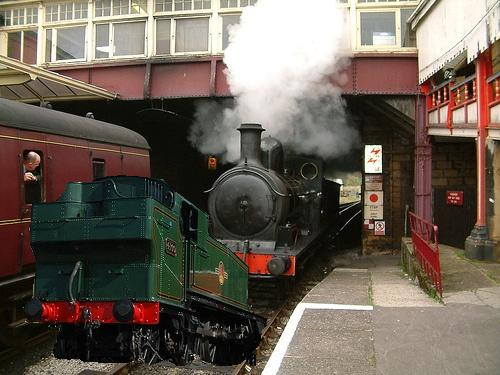tampered: (24, 176, 267, 366)
